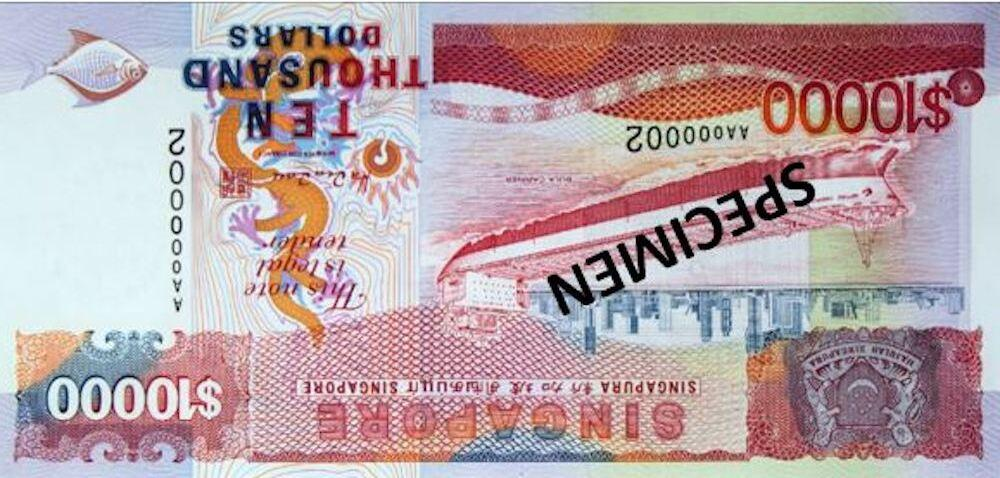10000SingaporeDollar: (5, 2, 1000, 478)
